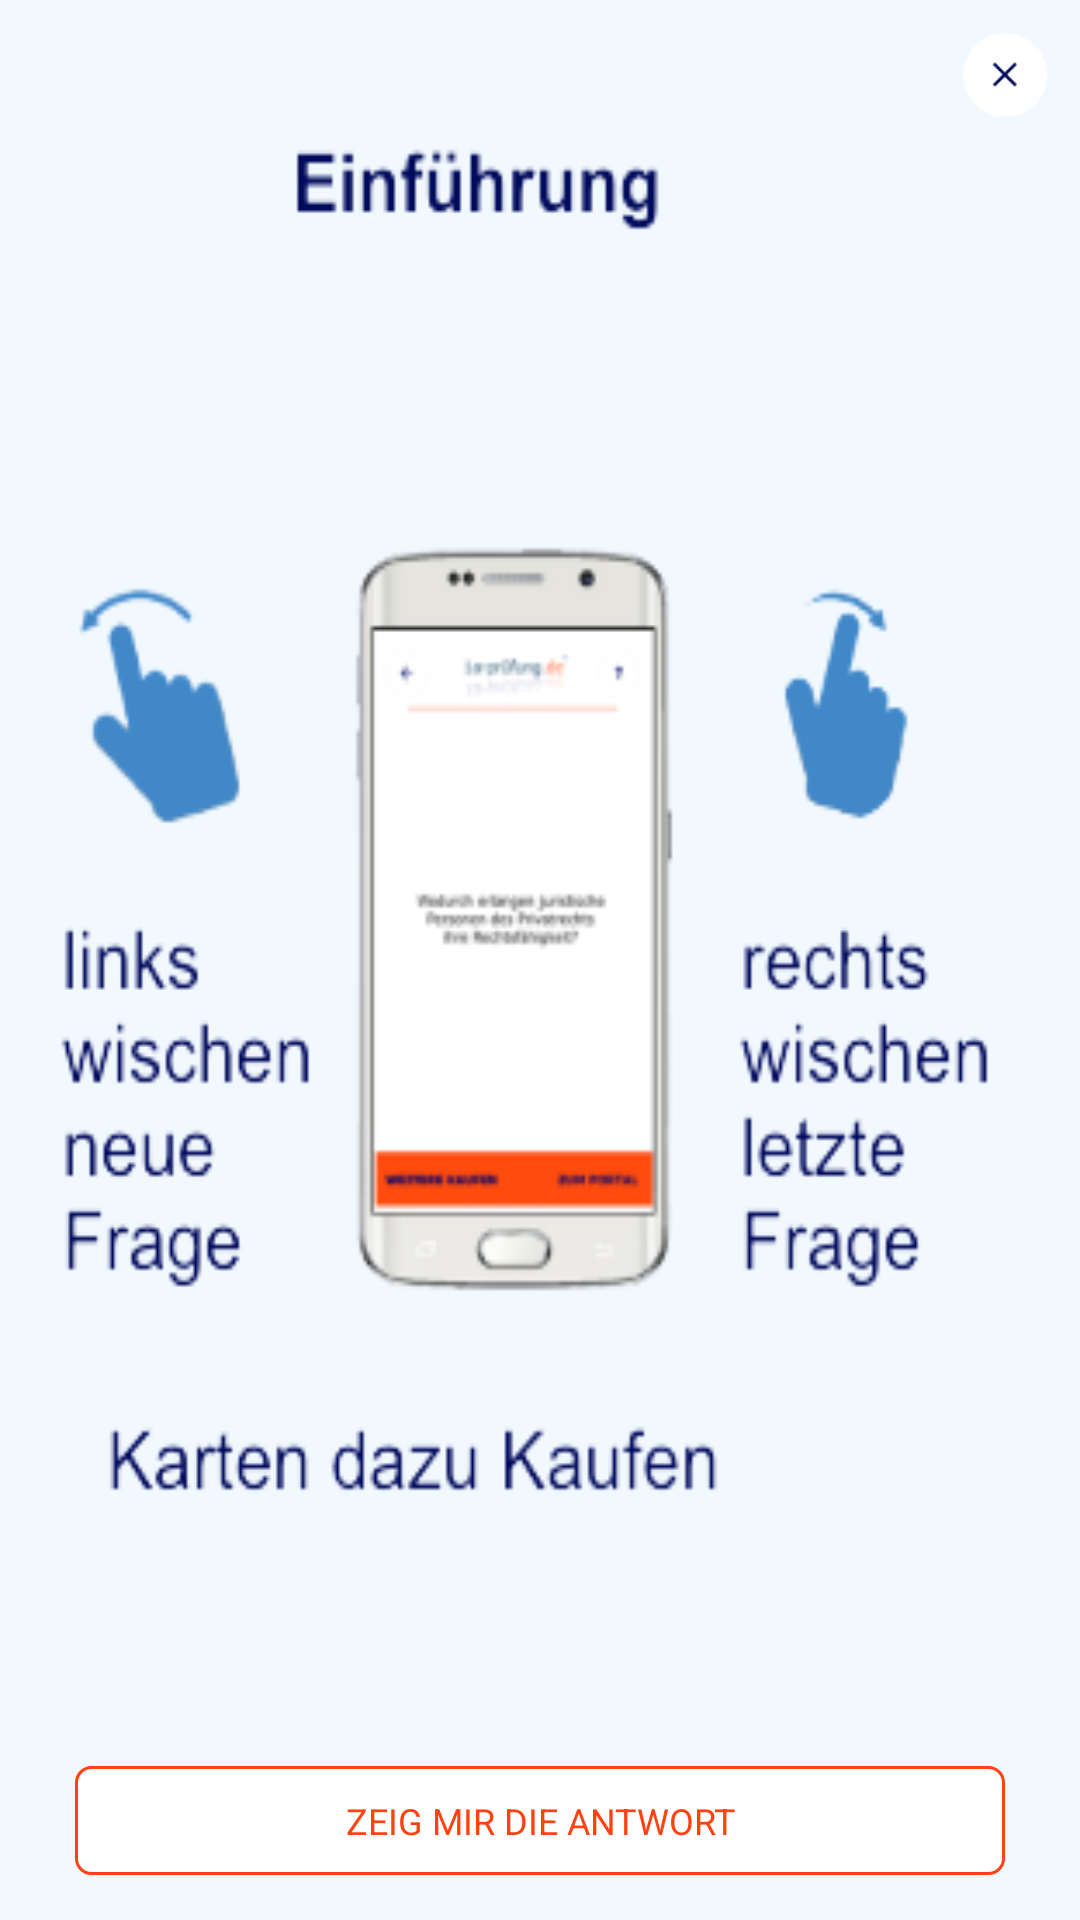

Icons on this 1080 × 1920 Android screen, each with its box as {"left": x1, "top": y1, "right": x2, "bottom": y2}:
close: {"left": 963, "top": 33, "right": 1047, "bottom": 117}
